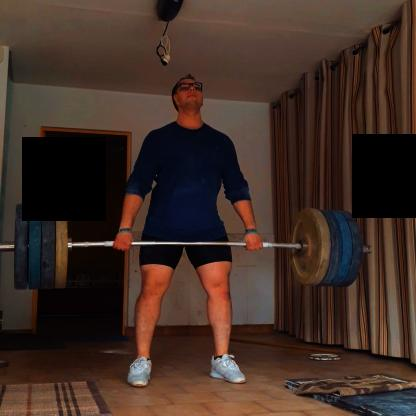barbell: (290, 208, 324, 287)
